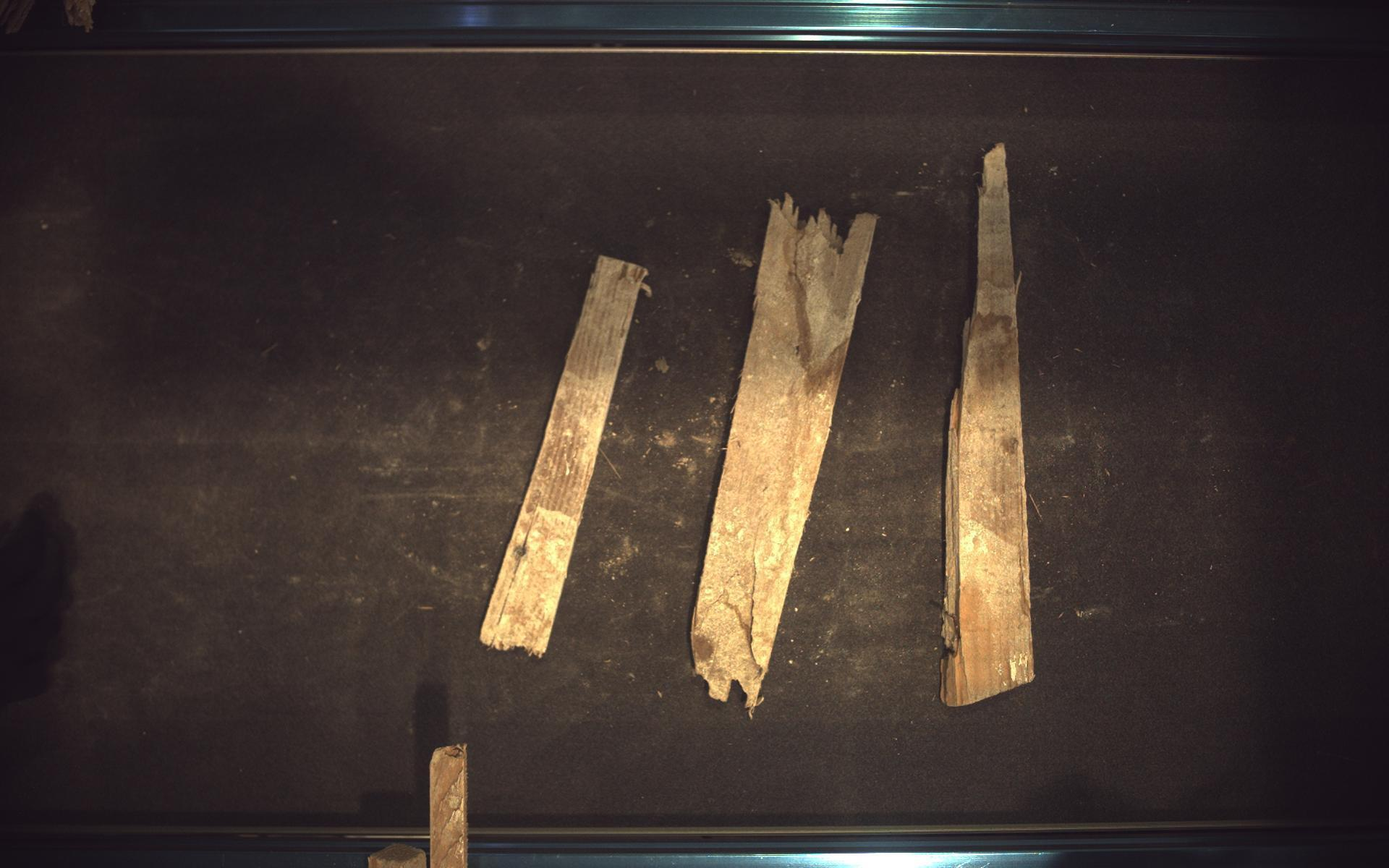wood: (692, 195, 878, 715), (481, 255, 648, 658), (943, 142, 1036, 707)
